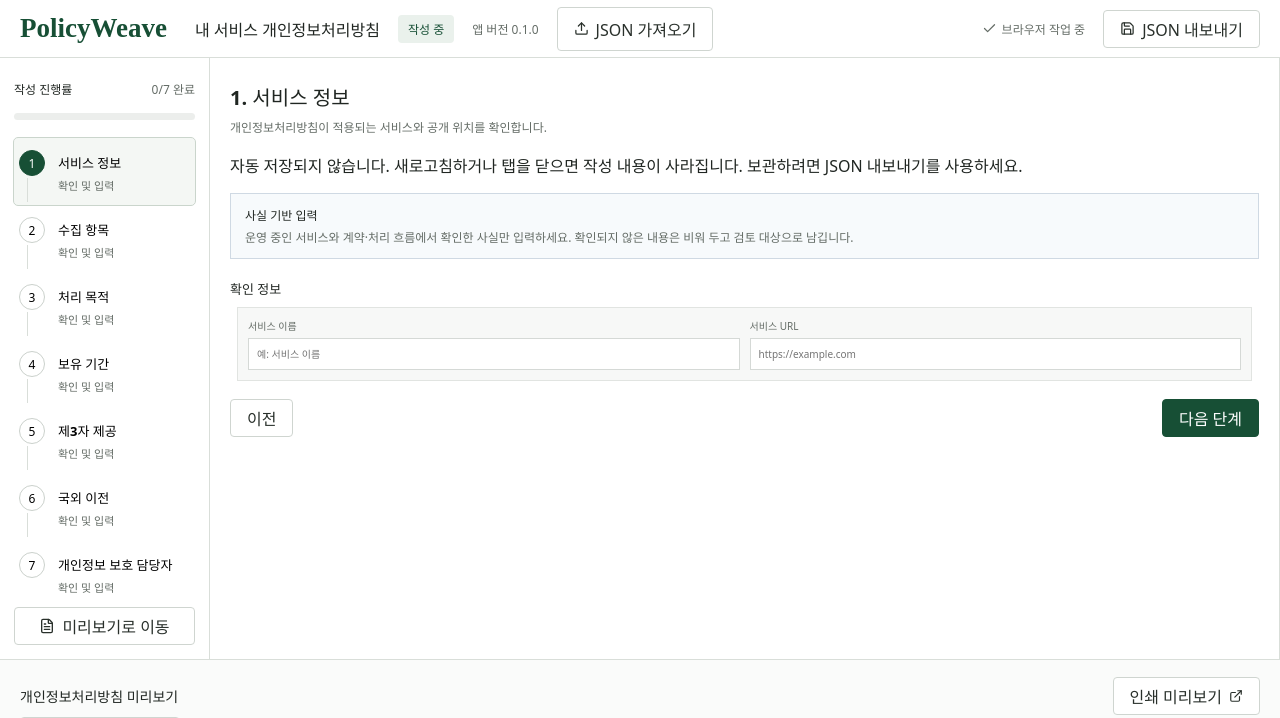
Test: policy editing workflow › 자격정보가 포함된 서비스 URL은 검토본에 노출하지 않고 수정 대상으로 남긴다
Step 1. Type "https://operator:secret@example.test" into the field named "serviceUrl" → [995, 354], box [750, 338, 1241, 370]
(page scrolled)
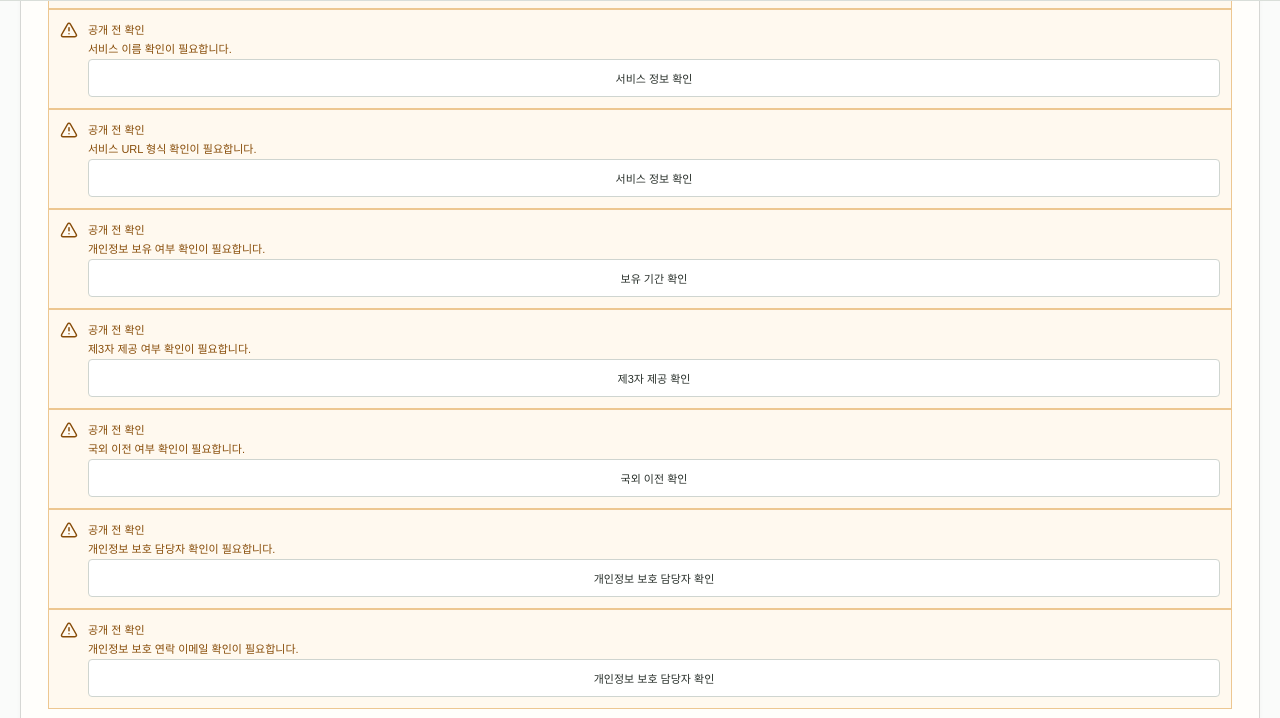
Result: the element that starts with "개인정보처리방침" shows "서비스 URL 형식" at [88, 143, 166, 155]
